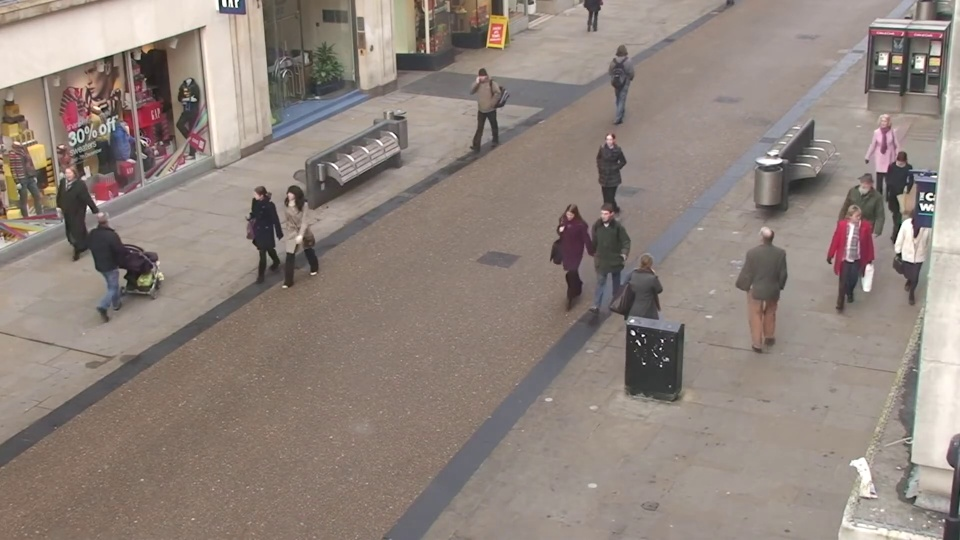pedestrian: (91, 199, 141, 313), (822, 205, 869, 326), (626, 245, 669, 376), (44, 167, 95, 274), (745, 219, 789, 342), (833, 179, 878, 293), (873, 150, 919, 258), (236, 182, 279, 293), (268, 182, 310, 294), (548, 204, 586, 325), (580, 203, 618, 324), (859, 112, 901, 210), (590, 133, 623, 234), (463, 67, 492, 149), (611, 41, 636, 116)
